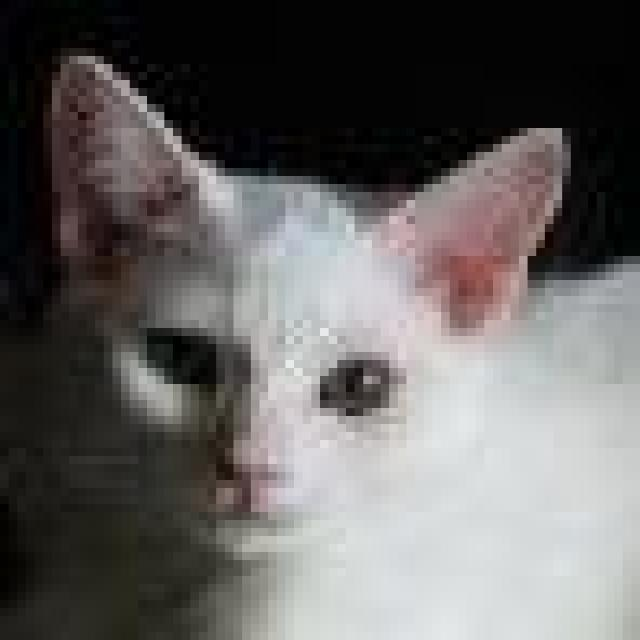cat: (0, 48, 631, 632)
